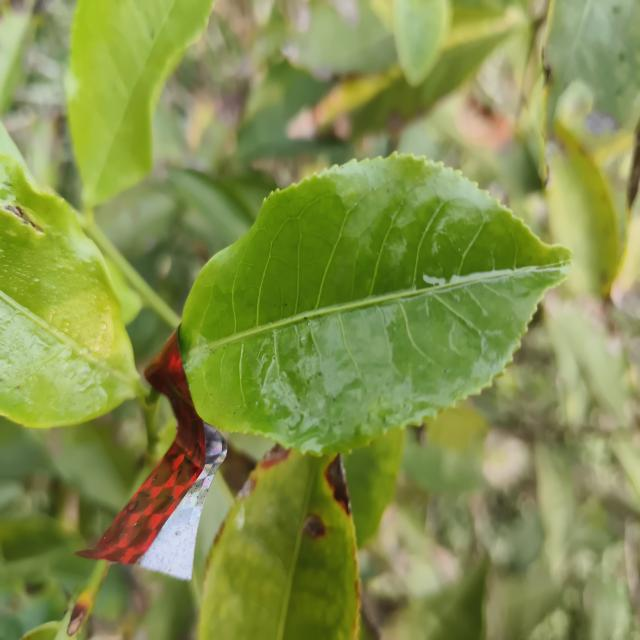Leaf: (179, 153, 571, 454), (0, 153, 142, 428), (198, 446, 359, 640), (65, 0, 213, 206), (546, 130, 619, 297), (45, 400, 147, 514), (383, 556, 489, 640), (393, 0, 451, 85)
